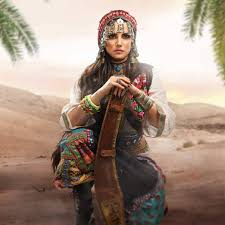middle_eastern_Female: (95, 17, 143, 74)
